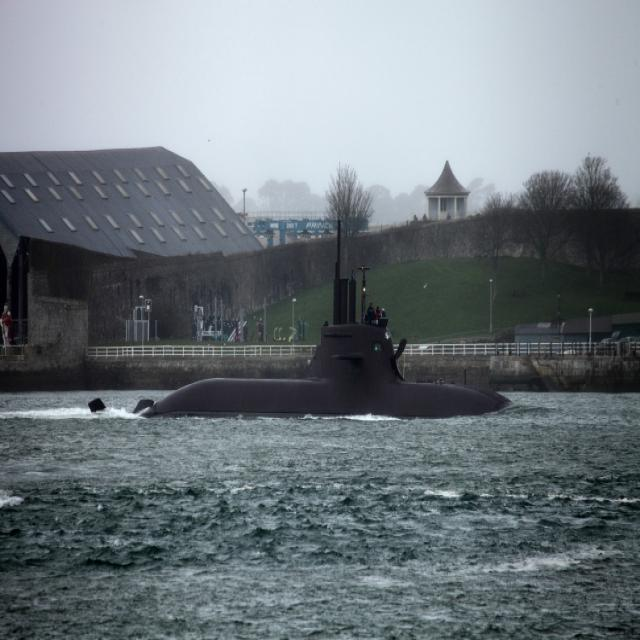submarine: (90, 211, 515, 415)
